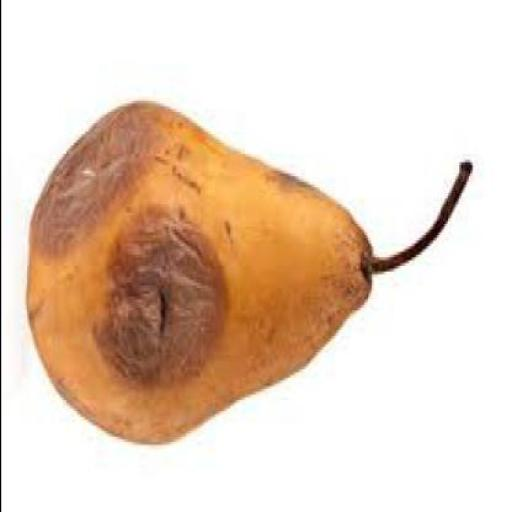biodegradable: (26, 104, 472, 450)
